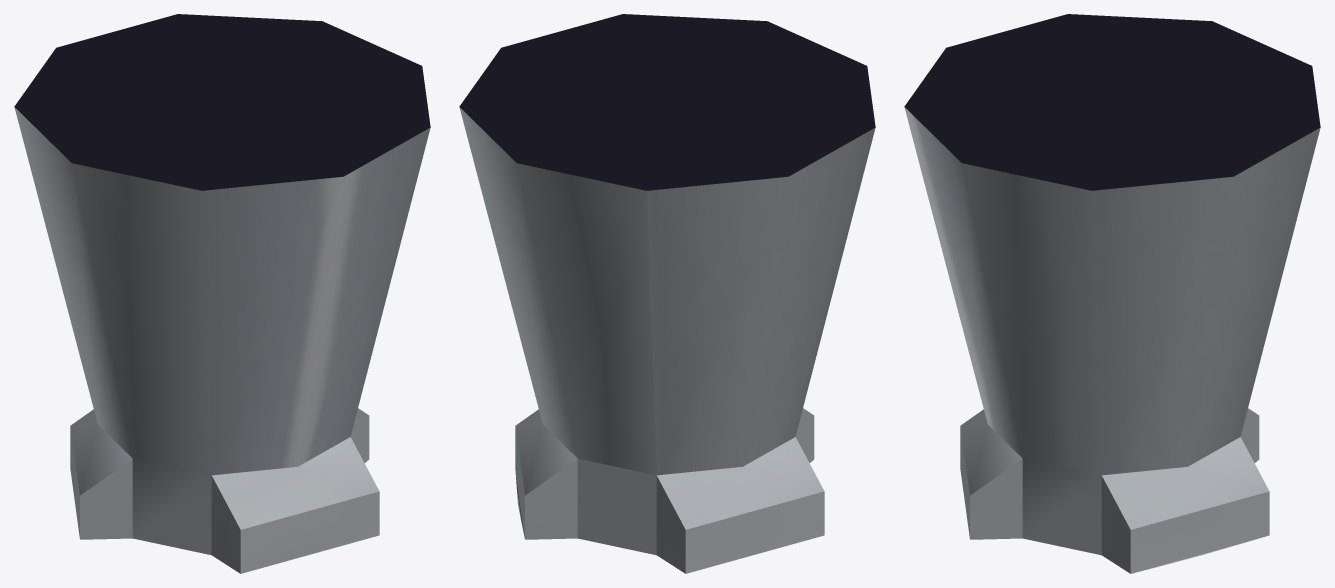
File: SM_Bin2.fbx
3 views of the same model, side by side, from view 1: azimuth 30°, elevation 25°; view 2: azimuth 150°, elevation 25°; view 3: azimuth 270°, elevation 25° (orthographic).
Visible parts, largest first — view 1: SM_BinAlt; view 2: SM_BinAlt; view 3: SM_BinAlt.
Part boxes in pixels (bbox=[...]): SM_BinAlt: bbox=[14, 14, 430, 573]; SM_BinAlt: bbox=[459, 14, 875, 573]; SM_BinAlt: bbox=[904, 14, 1320, 573].
Bounding box in the file's own units: 71.19 × 70.82 × 74.99.
Materials: 1 (1 with a texture image).
